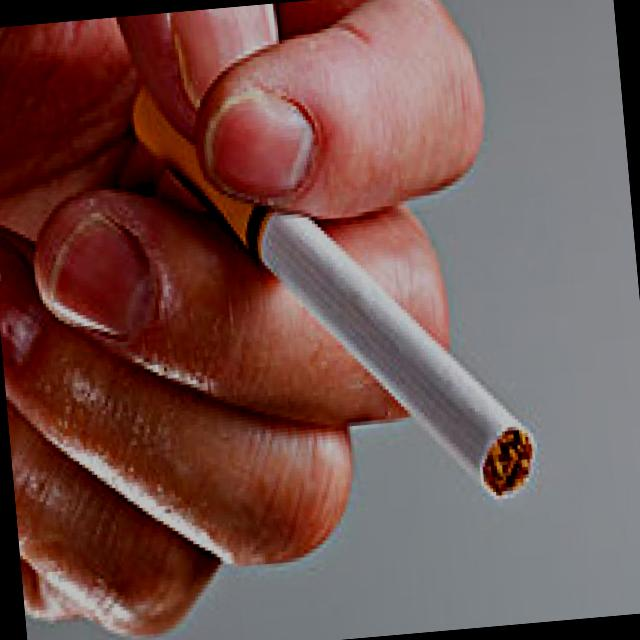cigarette: (111, 21, 542, 542)
